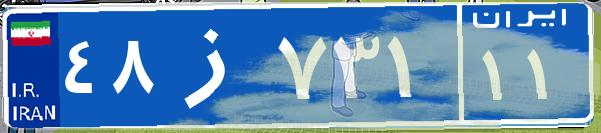1: (385, 28, 445, 110), (475, 38, 525, 113), (525, 38, 570, 115)
3: (330, 28, 385, 110)
4: (57, 26, 110, 107)
7: (273, 28, 330, 110)
8: (110, 28, 158, 105)
ز: (158, 15, 273, 115)
